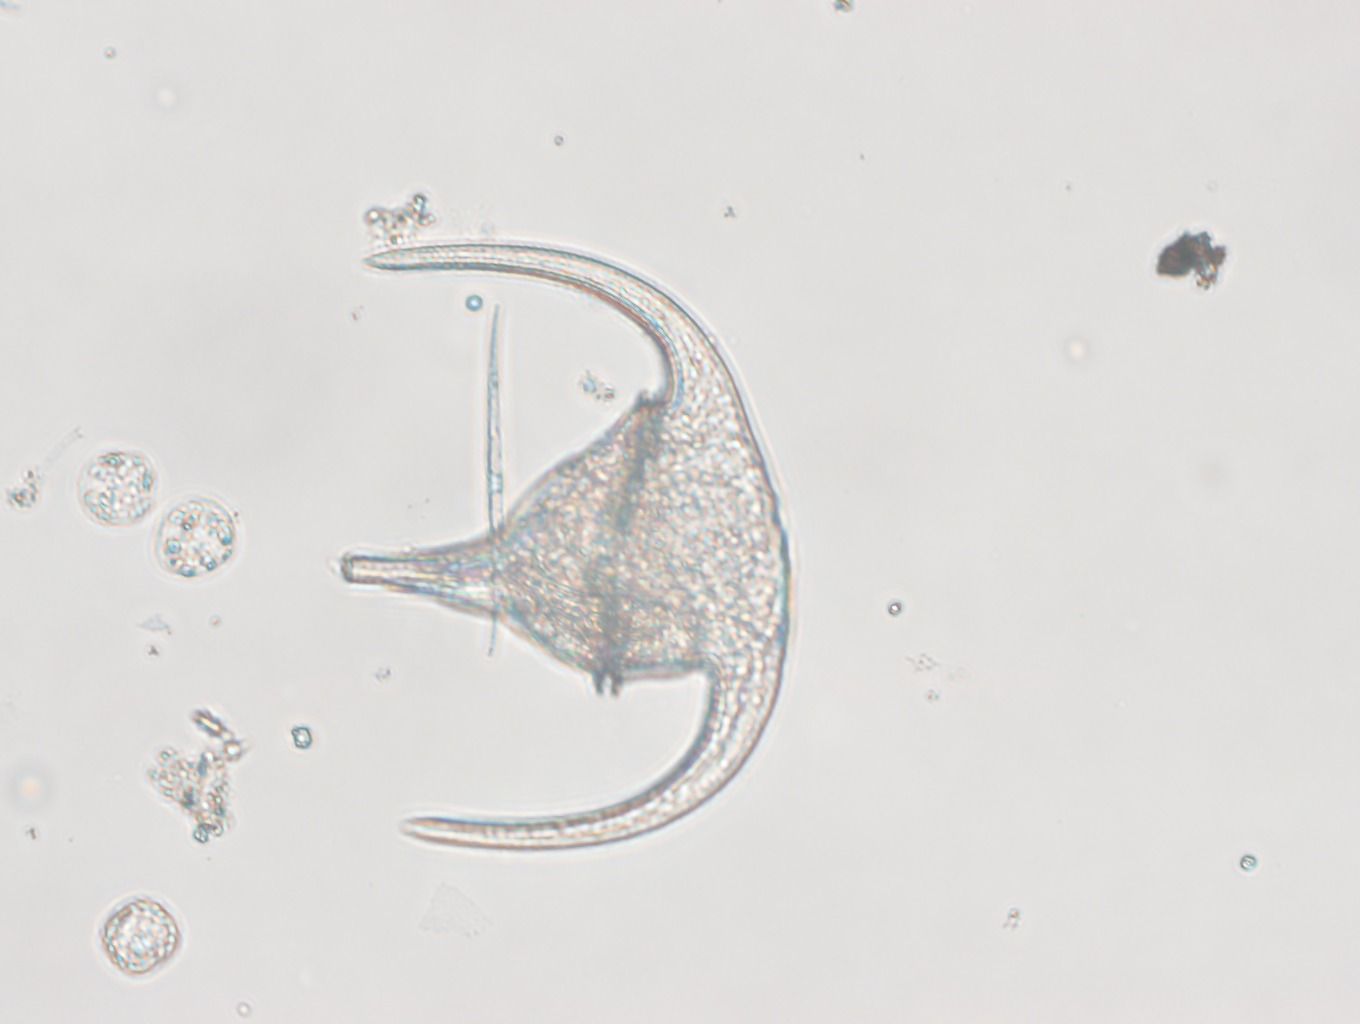ceratium tripos: (337, 243, 792, 850)
